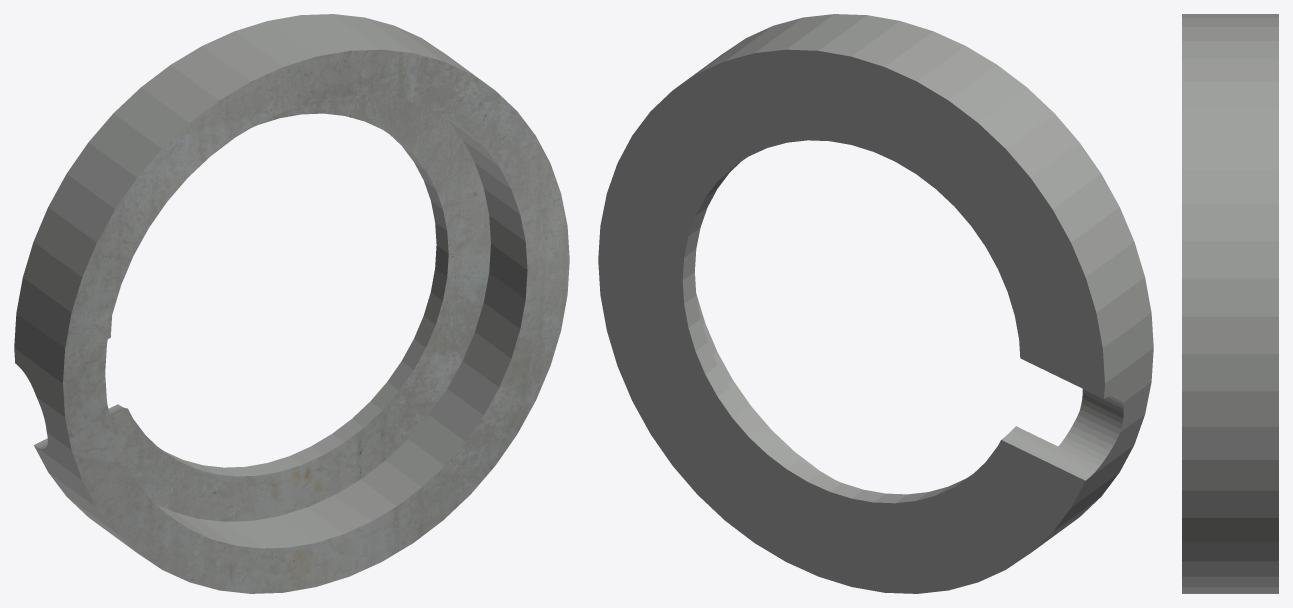
File: pool_023.obj
3 renders of one model, left to right at view 1: azimuth 30°, elevation 25°; view 2: azimuth 150°, elevation 25°; view 3: azimuth 270°, elevation 25°, orthographic.
Size of the model in its own units: 12 by 12 by 2.
